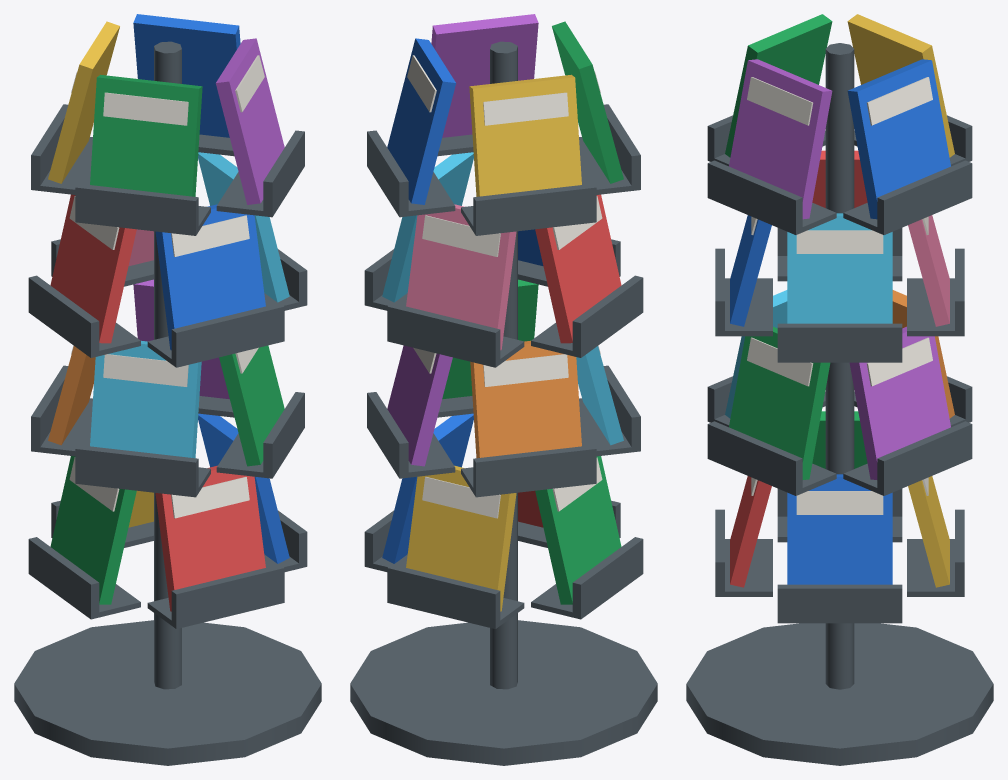
Rendered from magazine_rack.glb.
The picture shows the model from 3 angles, left to right: view 1: azimuth 30°, elevation 25°; view 2: azimuth 150°, elevation 25°; view 3: azimuth 270°, elevation 25°; orthographic projection.
Visible parts, largest first — view 1: magazine_rack; view 2: magazine_rack; view 3: magazine_rack.
Part boxes in pixels (bbox=[...]): magazine_rack: bbox=[14, 14, 321, 765]; magazine_rack: bbox=[350, 14, 657, 765]; magazine_rack: bbox=[686, 14, 993, 765].
Bounding box in the file's own units: 0.64 × 1.5 × 0.64.
